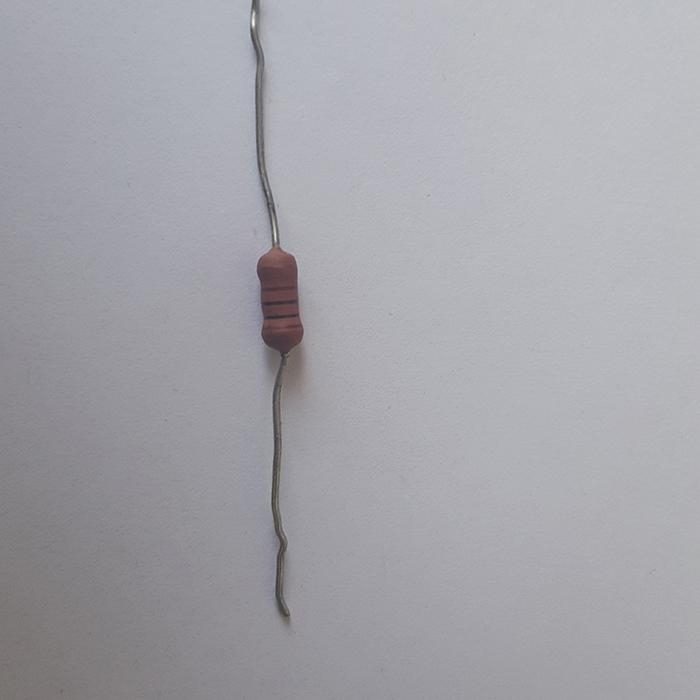resistor: (257, 244, 303, 354)
